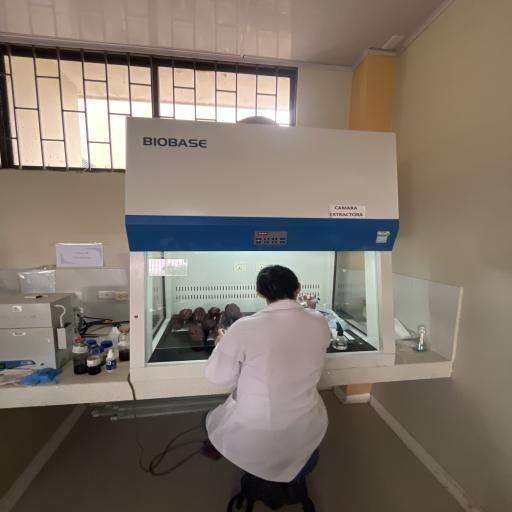Camara_Extractora_Biobase: (114, 108, 411, 388)
